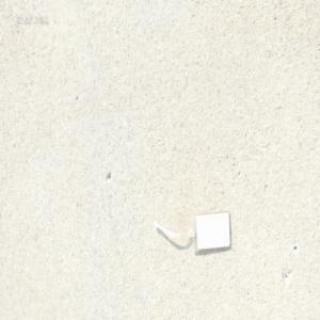LuggageTagtrack_idkeyframe: (152, 208, 231, 253)
